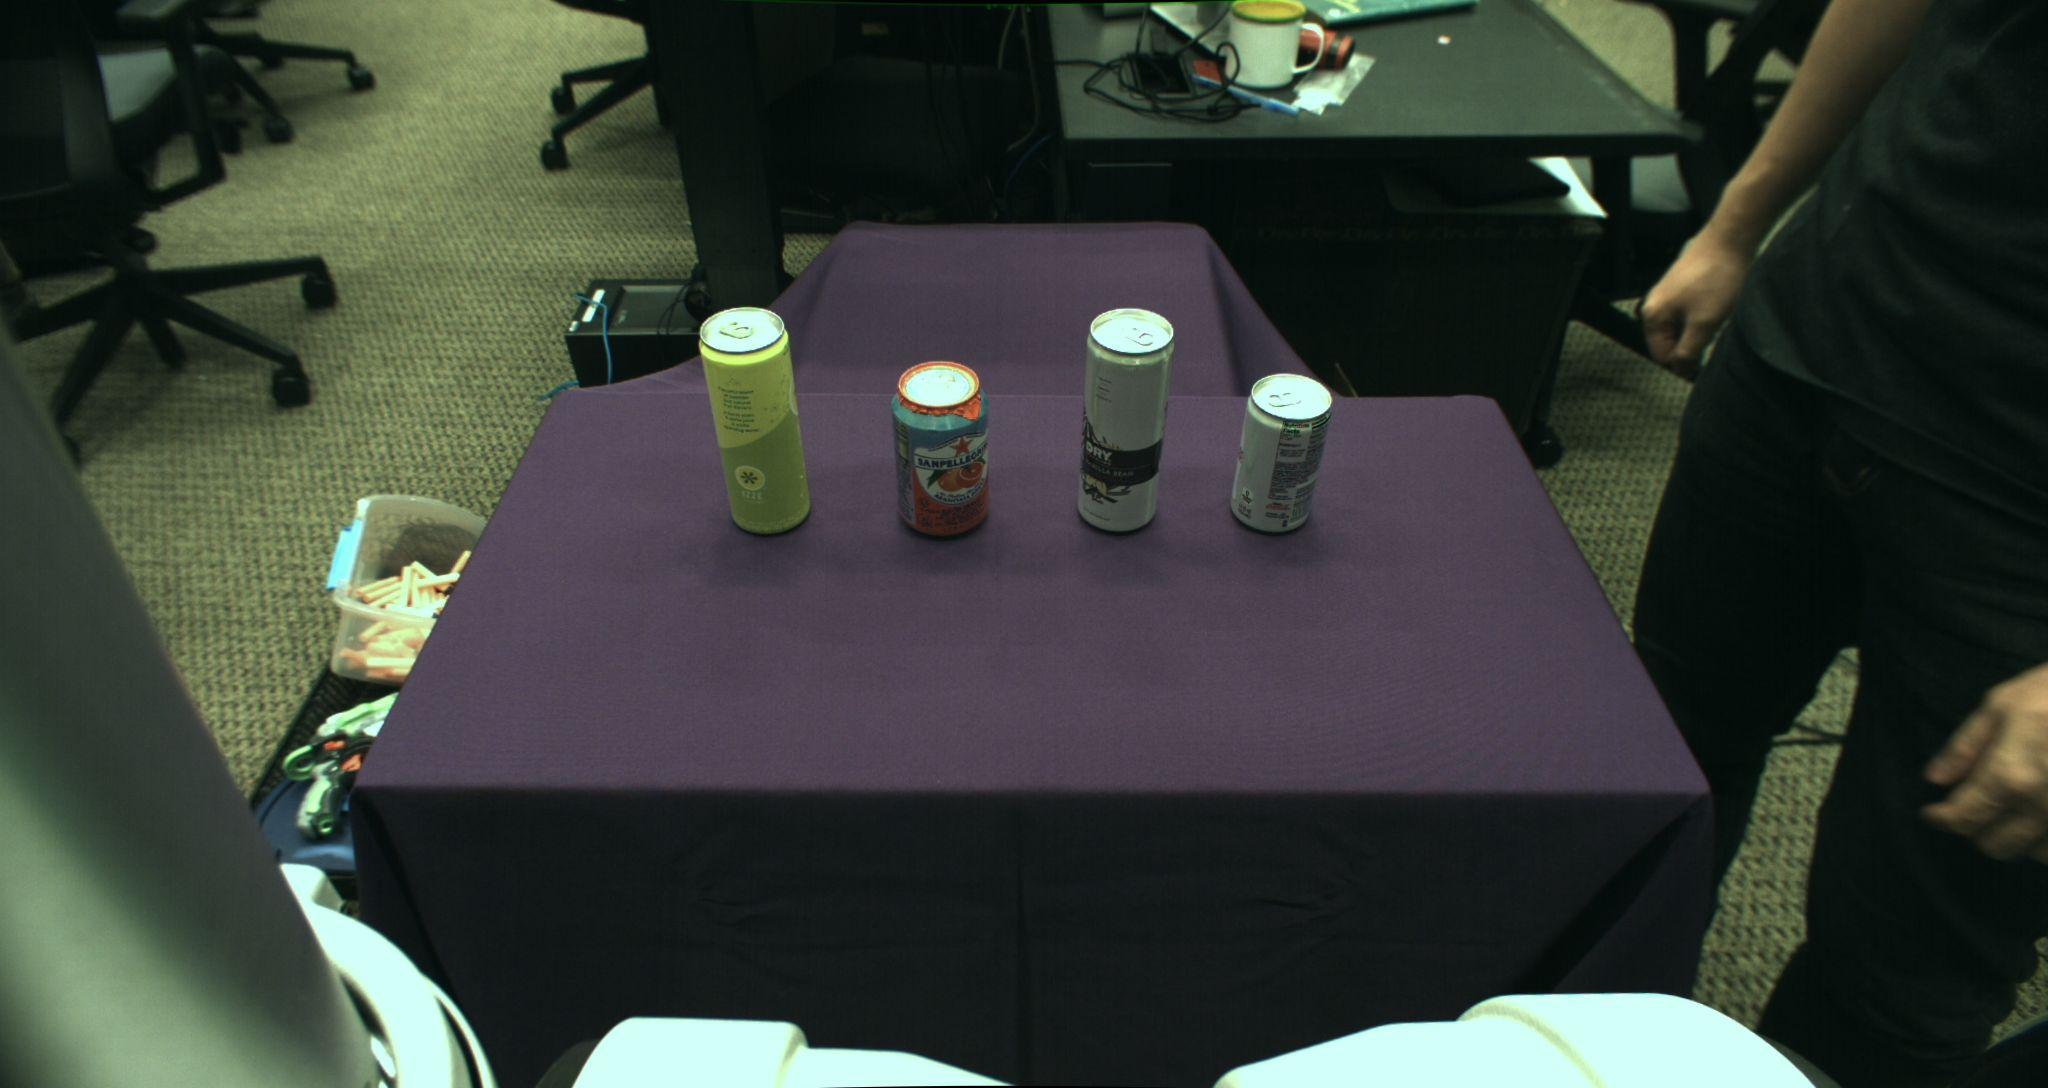can_diet_coke_small: (1231, 373, 1331, 532)
can_dry_sparkling_vanilla_bean: (1078, 308, 1174, 532)
can_izze_fusions_lemon_lime: (698, 306, 811, 537)
can_sanpellegrino_blood_orange: (891, 360, 990, 537)
